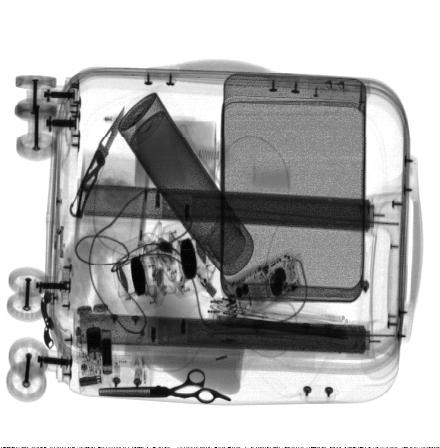Knife: (68, 105, 125, 219)
Scissors: (96, 367, 233, 406)
